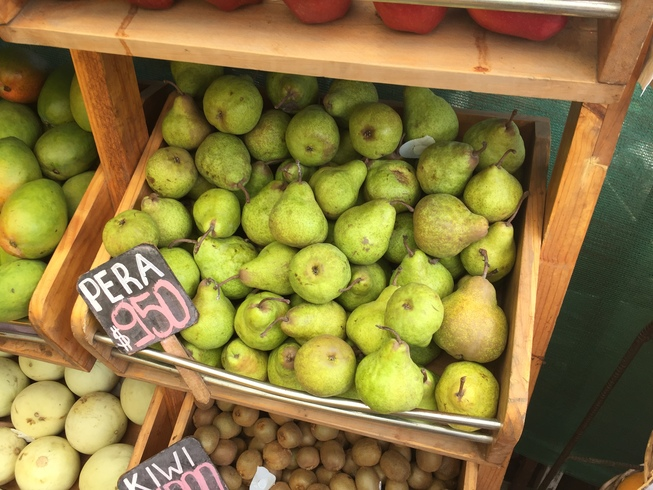precio: (76, 245, 194, 359), (122, 443, 223, 490)
